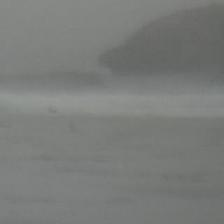surfer: (48, 107, 60, 116), (68, 122, 79, 131)
